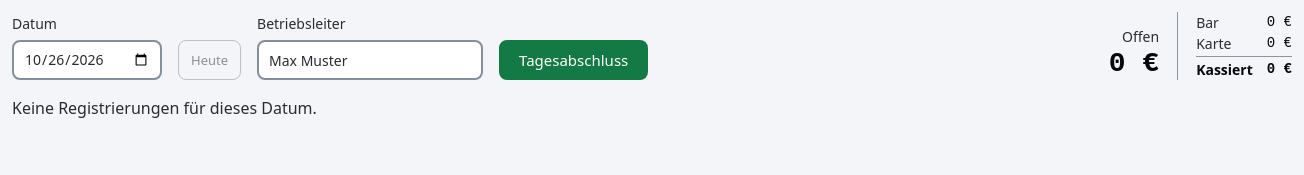
Scenario: List › counts a single written redemption in the singular
This screenshot has width=1304, height=175.
Expected: the text "Keine Registrierungen für dieses Datum." is shown, [12, 97, 317, 119]
Click the button "Tagesabschluss" at (574, 60), box [499, 40, 648, 80]
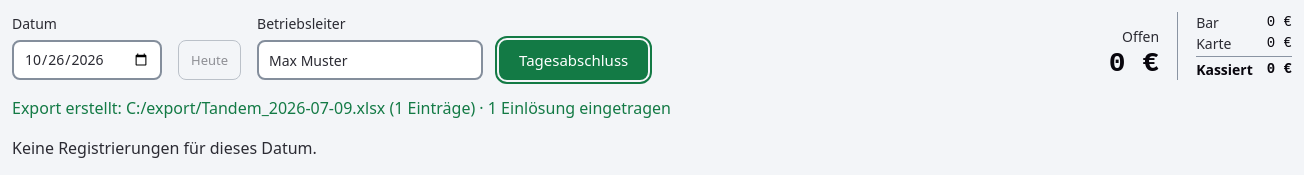
Expected: the text "1 Einlösung eingetragen" is shown, [12, 97, 671, 119]
